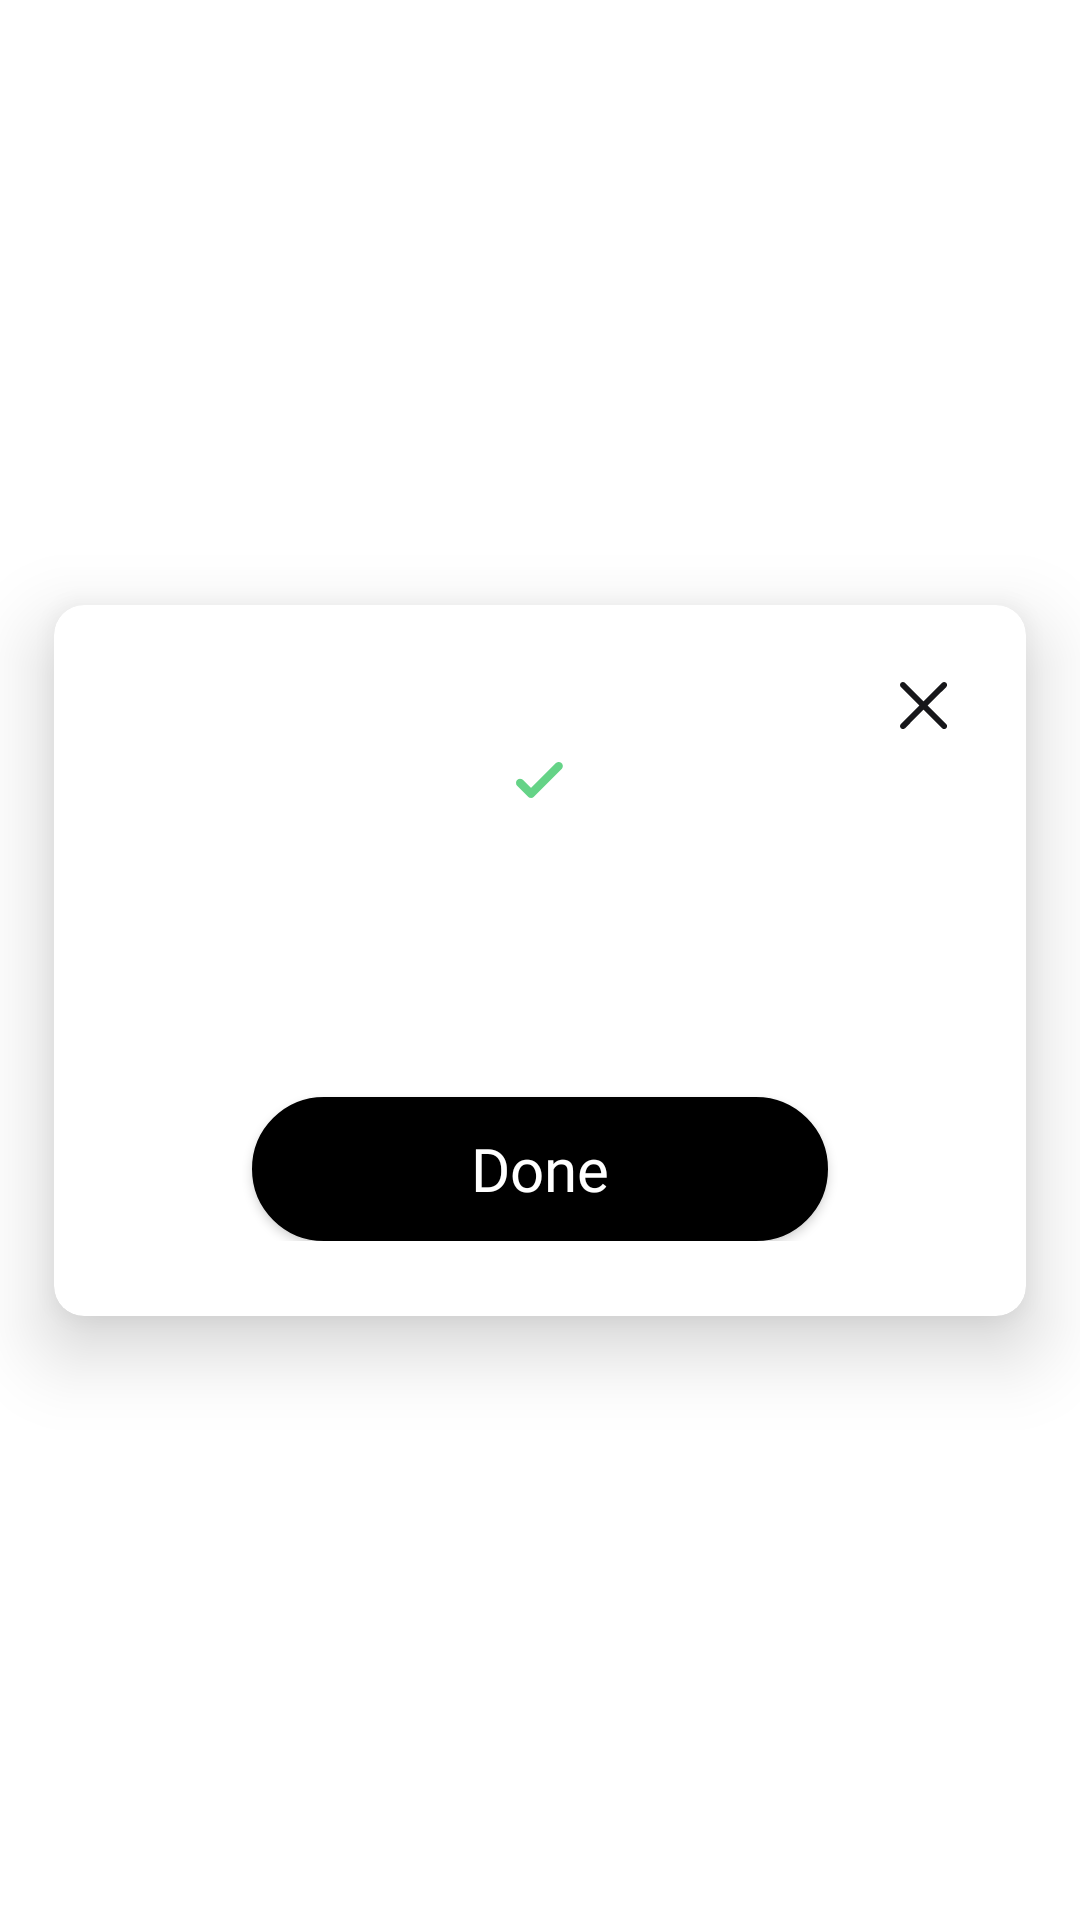

Locate icon controls on the screen. Image size 1080px×1920px, boxes as bbox(x1, y1, x2, y2).
close: bbox(900, 682, 947, 729)
tick: bbox(516, 762, 563, 798)
